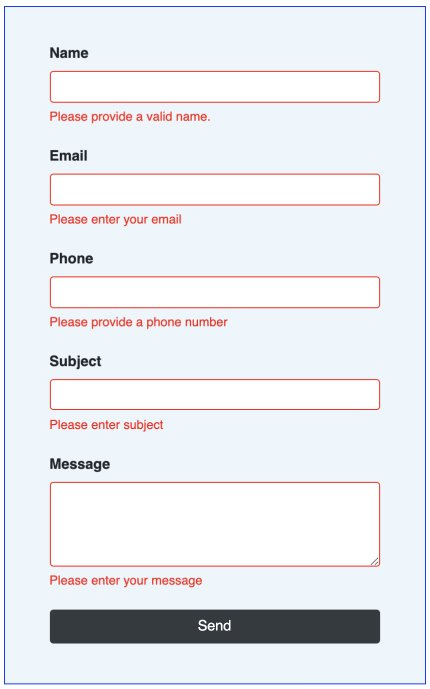error_field: (49, 481, 383, 568), (49, 69, 381, 104), (49, 376, 381, 411), (49, 274, 381, 309), (47, 172, 379, 207)
error_message: (47, 313, 228, 330), (49, 572, 205, 589), (49, 110, 211, 125), (47, 211, 182, 227), (49, 417, 165, 433)
